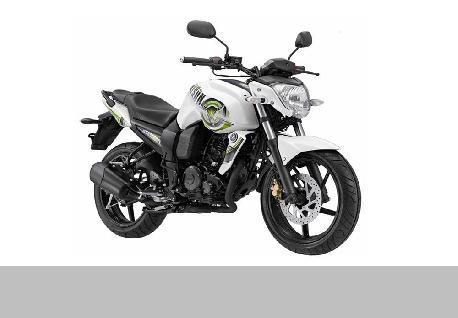motorbike: (80, 18, 361, 256)
